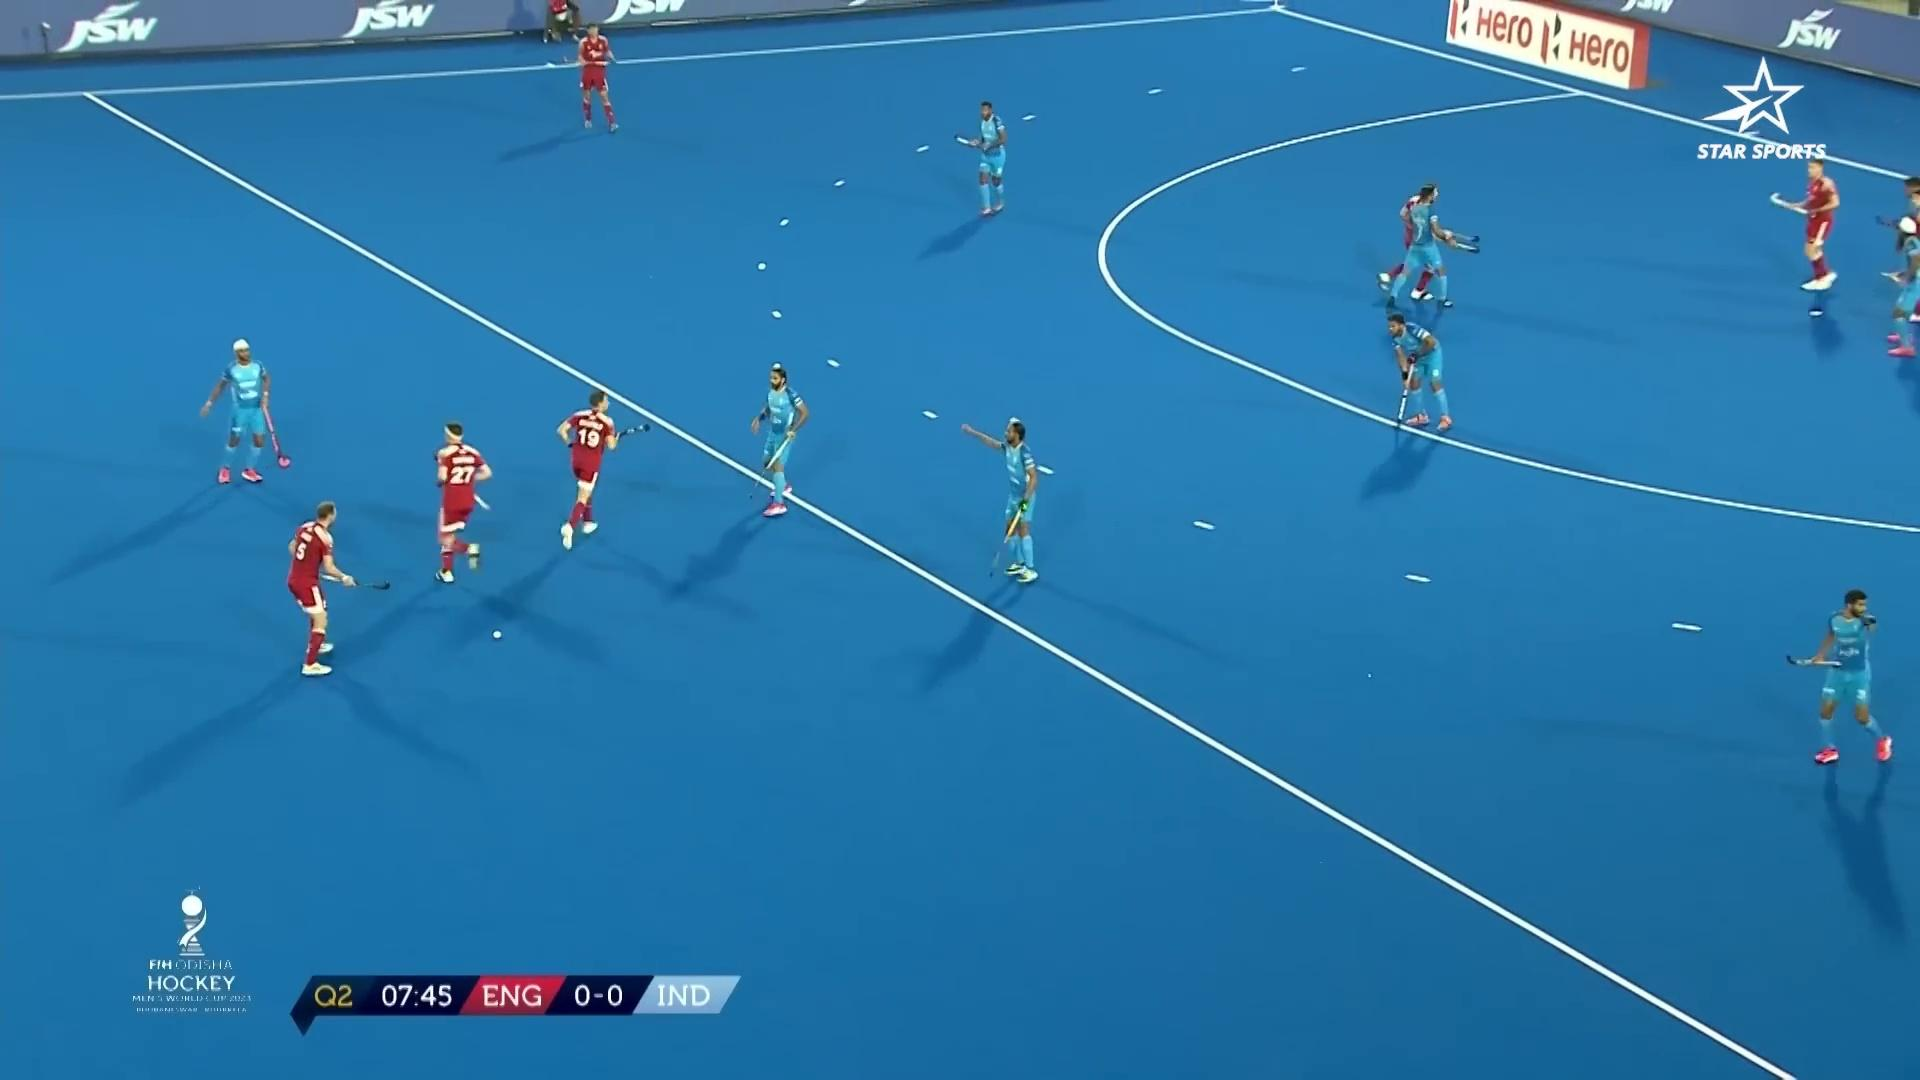ball: (489, 625, 504, 642)
